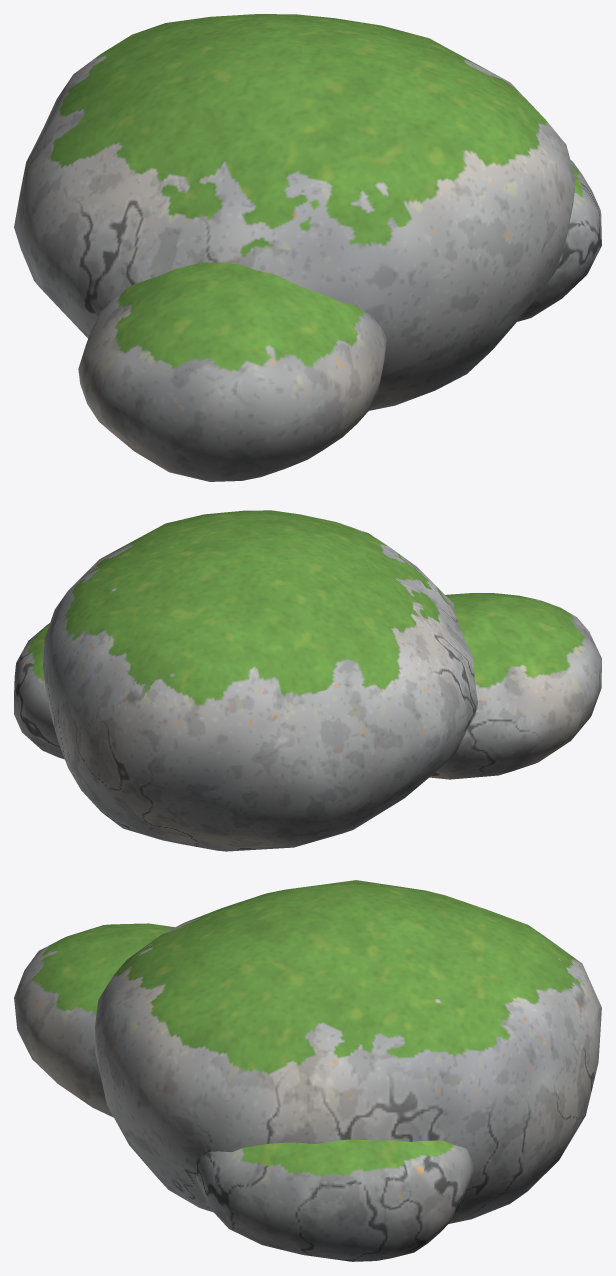
File: rock_c.glb
The picture shows the model from 3 angles, top to bottom: view 1: azimuth 30°, elevation 25°; view 2: azimuth 150°, elevation 25°; view 3: azimuth 270°, elevation 25°; orthographic projection. The views are drawn at different scales.
Visible parts, largest first — view 1: Rock; view 2: Rock; view 3: Rock.
Part boxes in pixels (bbox=[...]): Rock: bbox=[14, 14, 601, 481]; Rock: bbox=[14, 510, 601, 851]; Rock: bbox=[14, 880, 601, 1261].
Size of the model in its own units: 2.35 by 1.28 by 2.32.
Materials: 1 (1 with a texture image).
